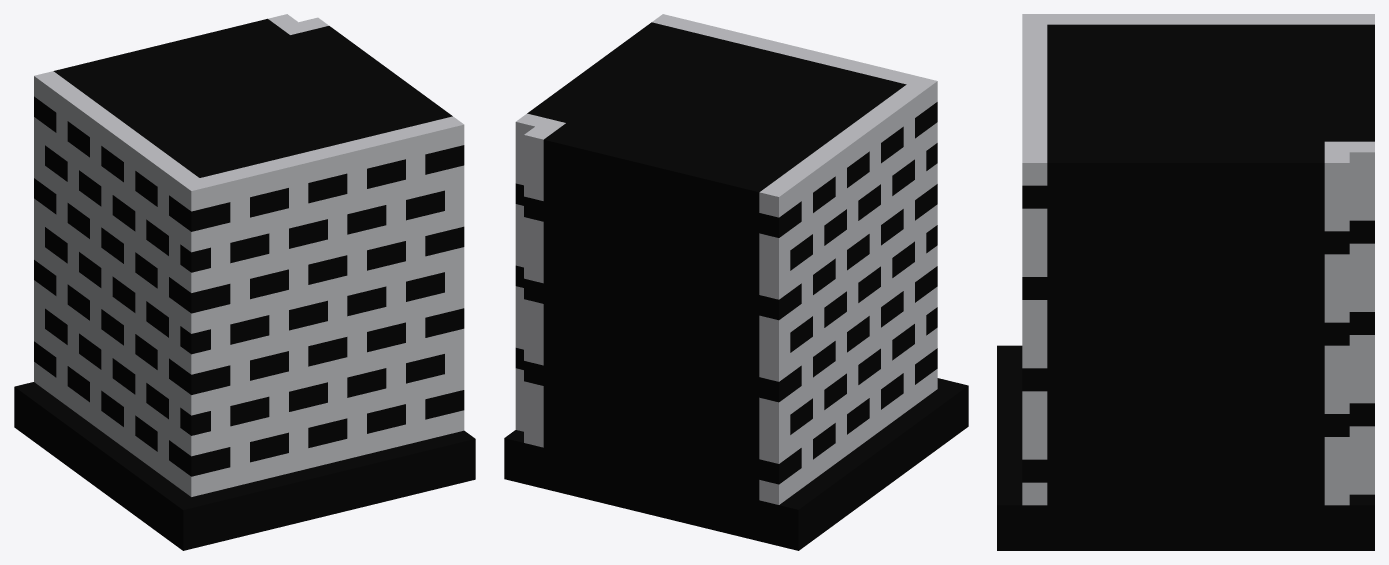
The model's file is dungeon_d_b_inner_wall_corner_b.obj.
The picture shows the model from 3 angles, left to right: view 1: azimuth 30°, elevation 25°; view 2: azimuth 150°, elevation 25°; view 3: azimuth 270°, elevation 25°; orthographic projection. The views are drawn at different scales.
Bounding box in the file's own units: 1.5 × 1.7 × 1.5.
1 material, 1 textured.
